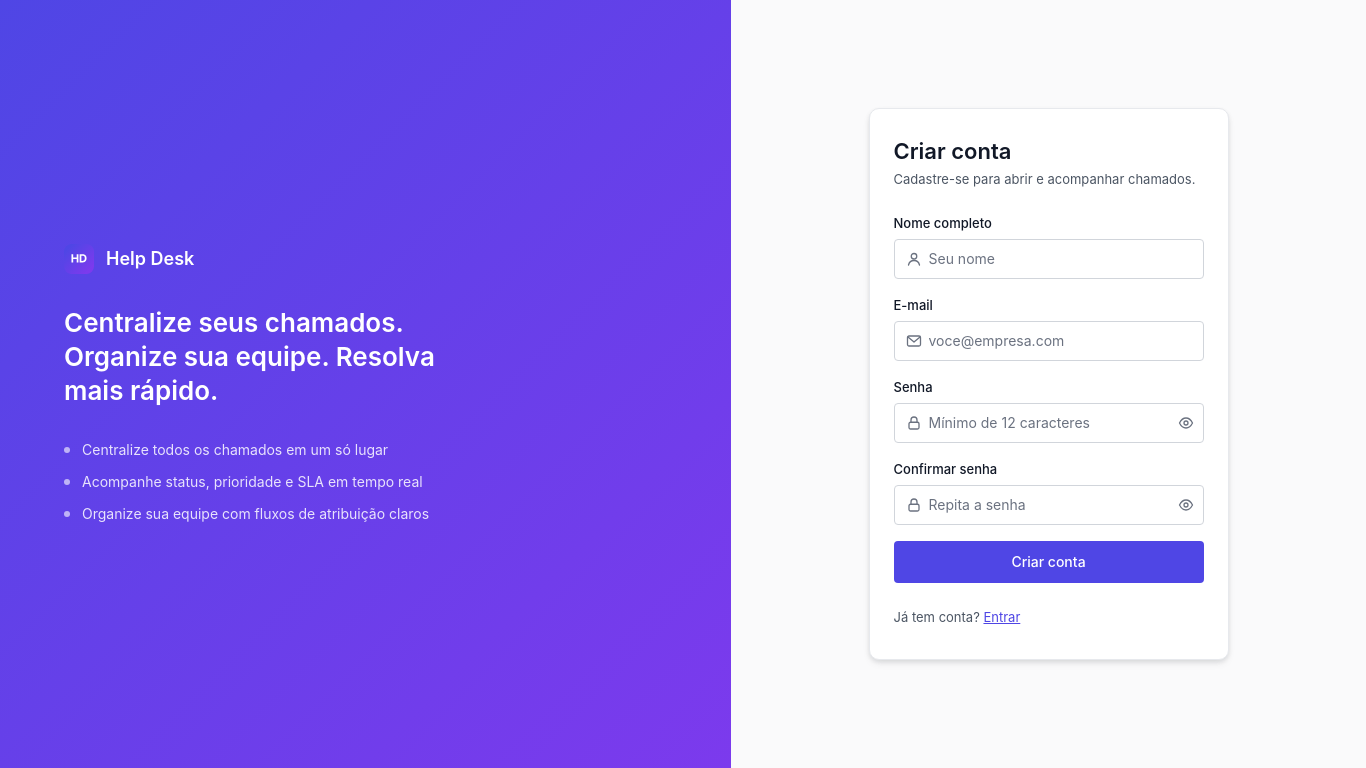
Test: RegisterPage › cadastra com sucesso e navega autenticado
Type "Nova Pessoa" into the field labelled "Nome completo".
click(1048, 259); type("Nova Pessoa")  # box [894,239,1204,279]
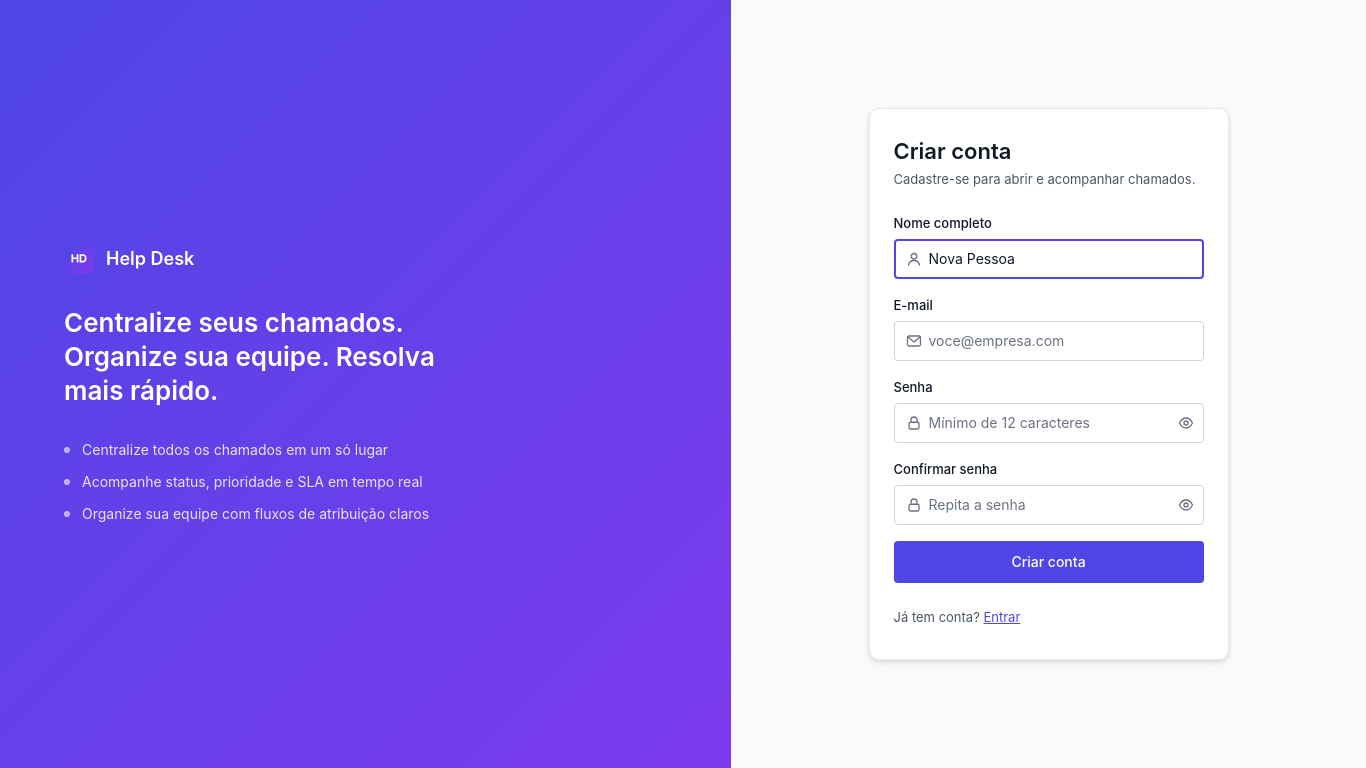
Type "nova.pessoa@helpdesk.com" into the field labelled "E-mail".
click(1048, 341); type("nova.pessoa@helpdesk.com")  # box [894,321,1204,361]
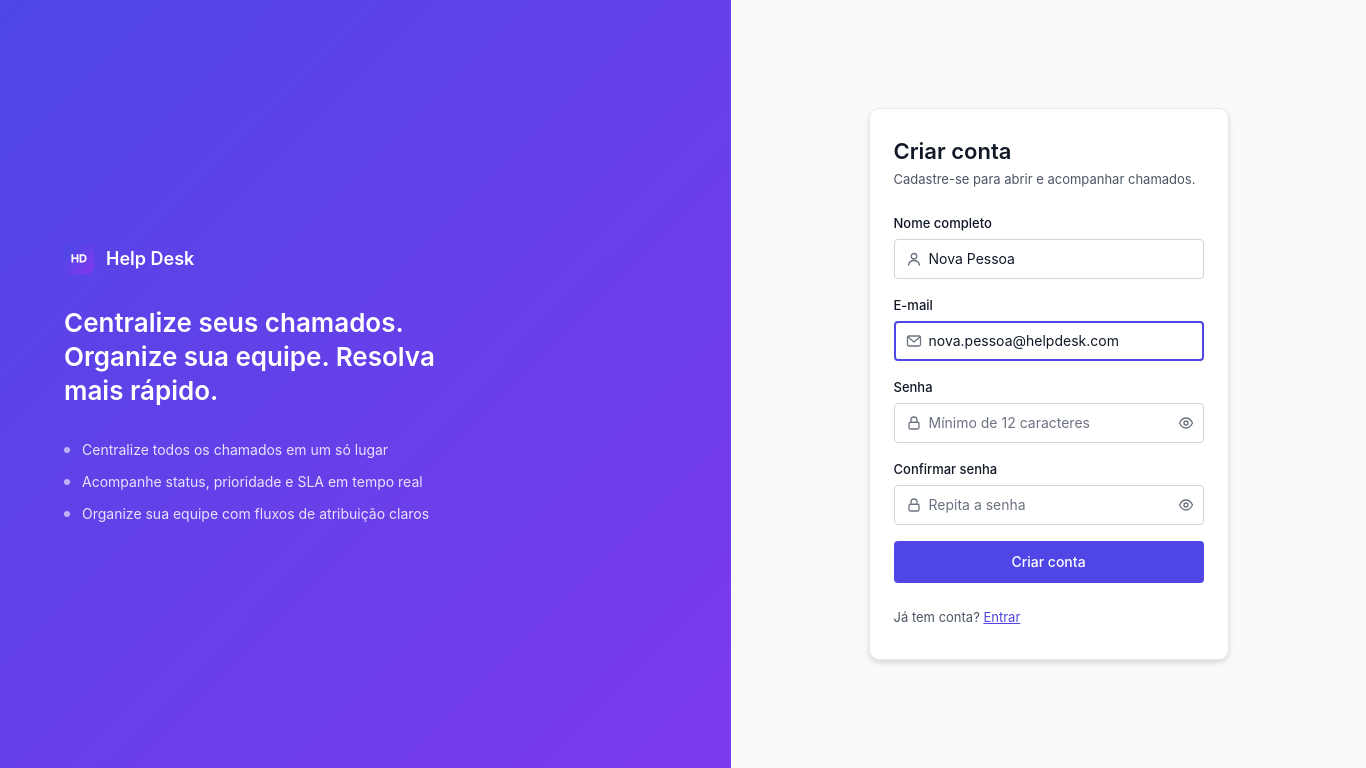
Type "senhaComDozeCaracteres" into the password field labelled "Senha".
click(1048, 423); type("senhaComDozeCaracteres")  # box [894,403,1204,443]
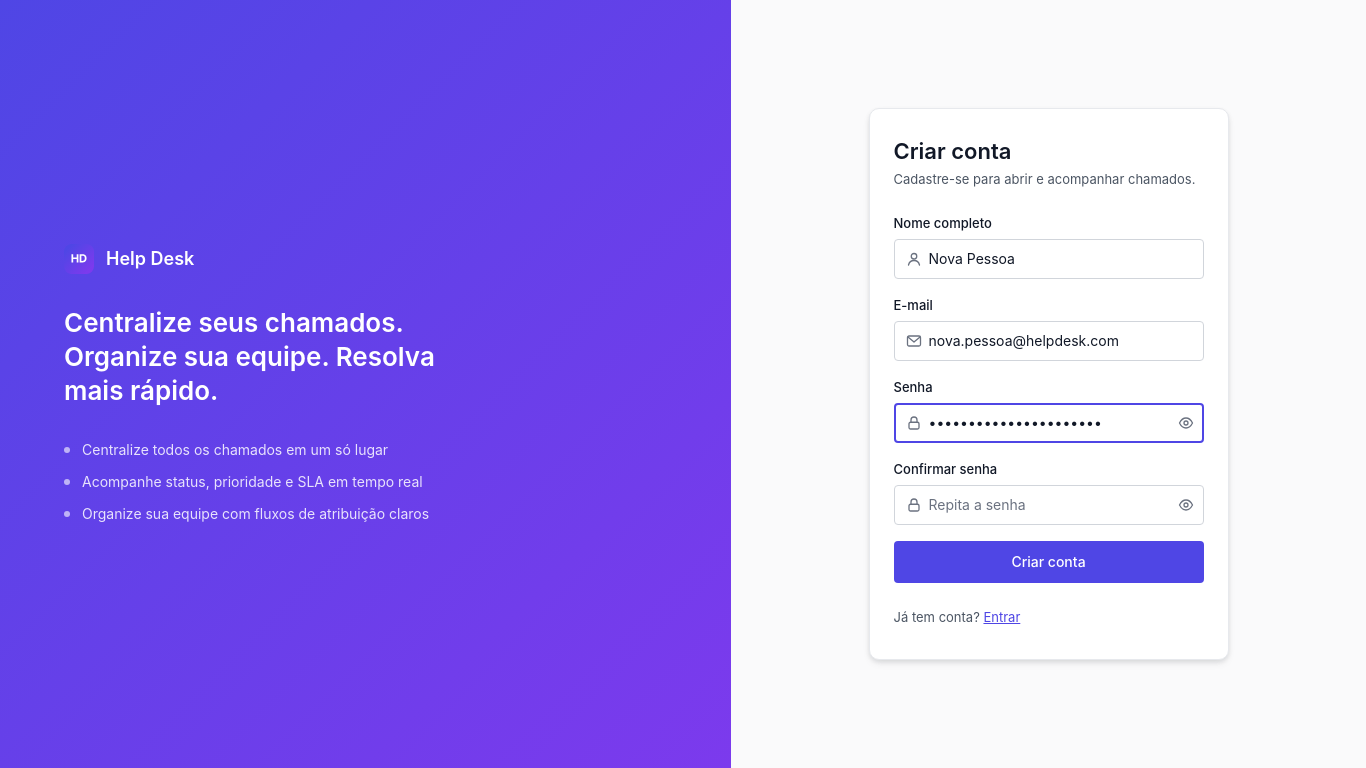
Type "senhaComDozeCaracteres" into the password field labelled "Confirmar senha".
click(1048, 505); type("senhaComDozeCaracteres")  # box [894,485,1204,525]
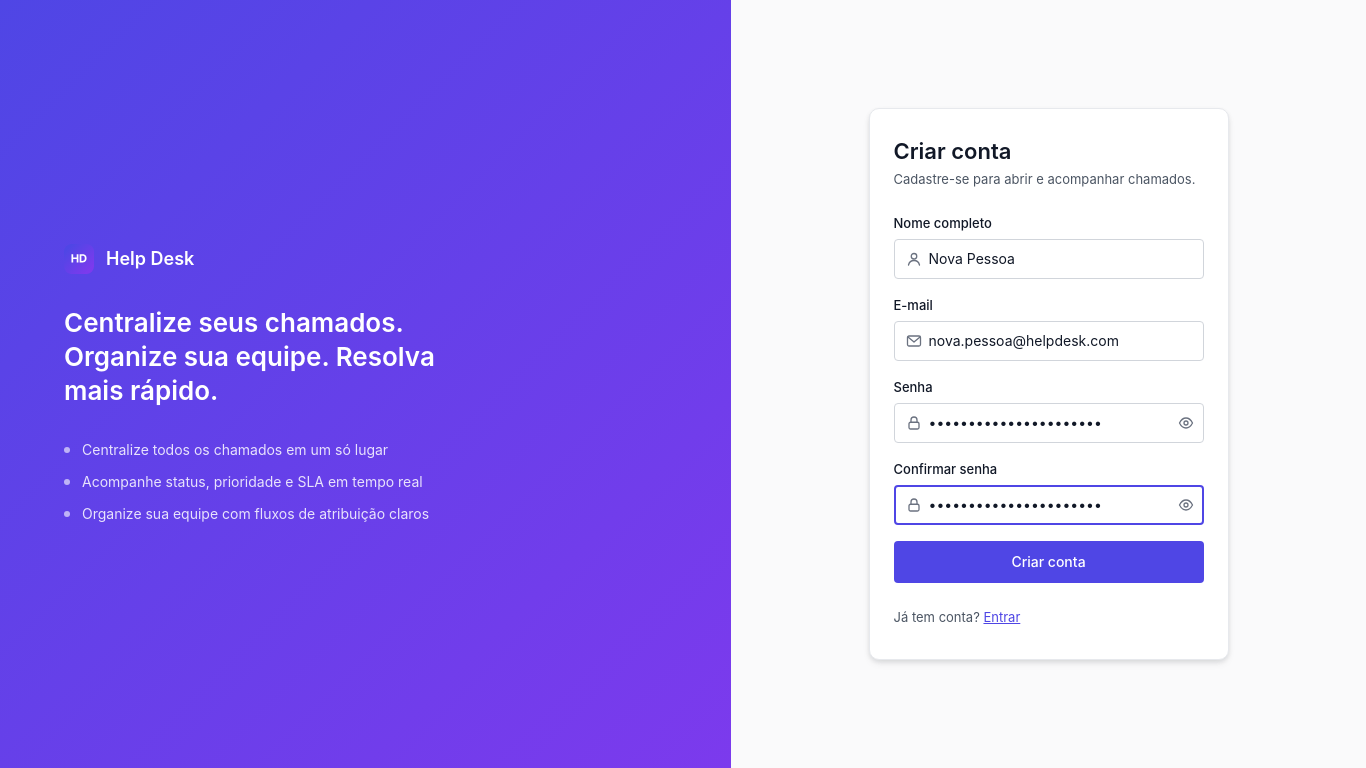
Click the button "Criar conta".
click(1048, 562)  # box [894,541,1204,583]
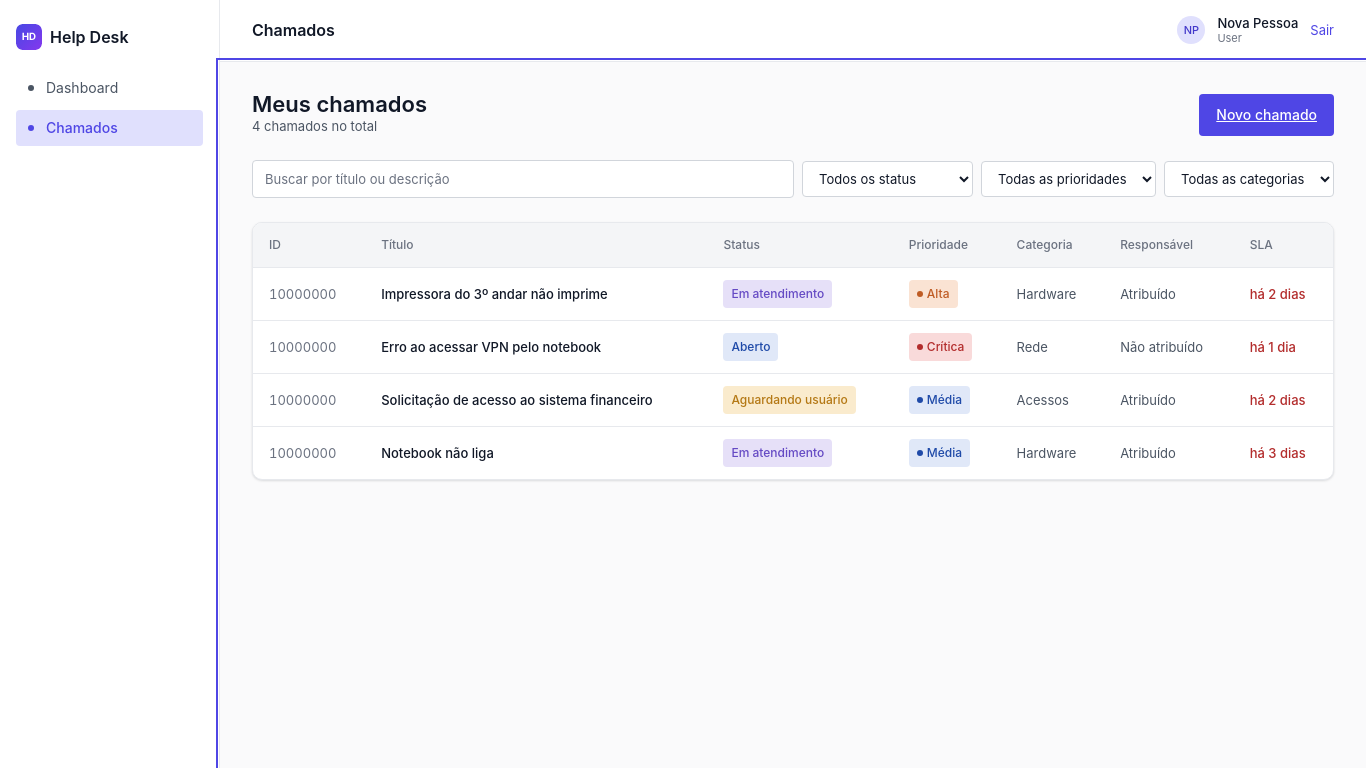
Result: the link "Novo chamado" is shown at [1199,94,1334,136]
